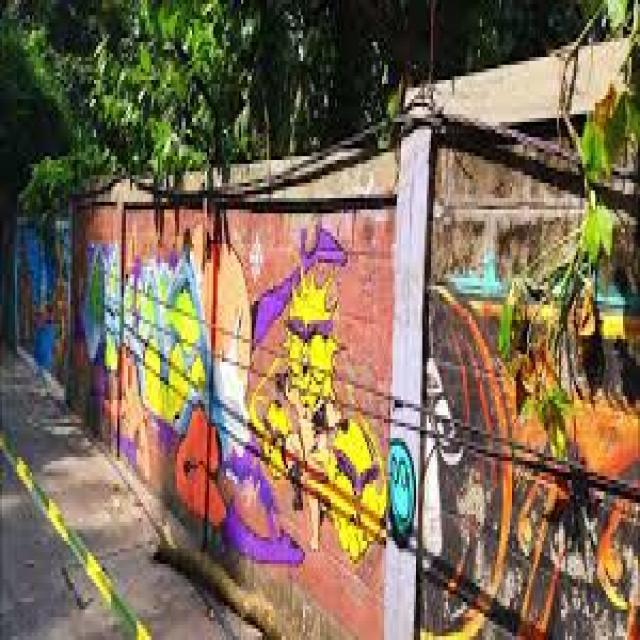-: (81, 223, 385, 566), (422, 248, 640, 636), (15, 224, 75, 370), (388, 443, 416, 543)
